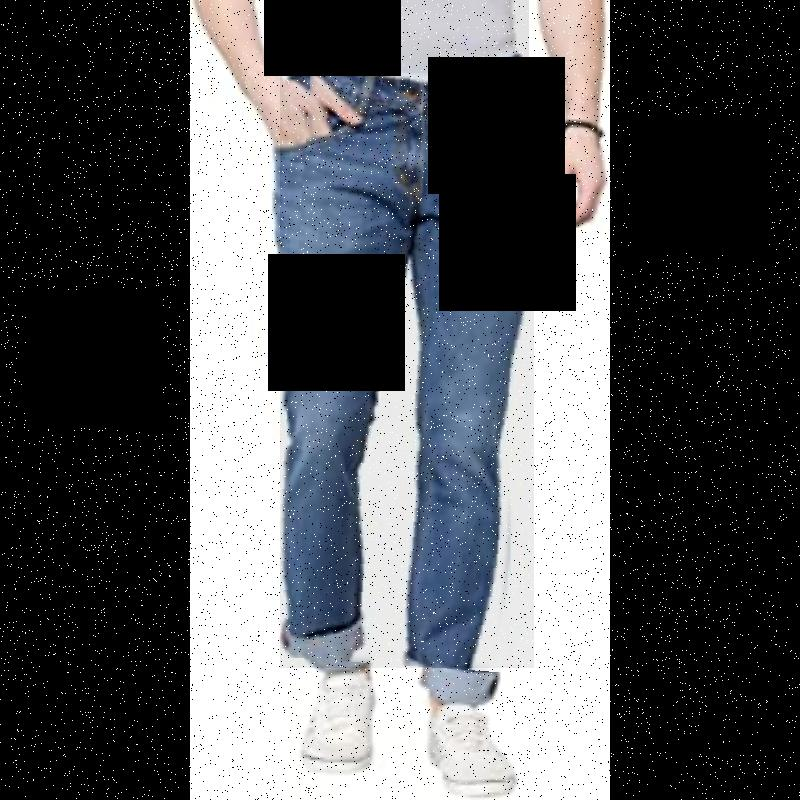Jeans: (280, 60, 534, 668)
Tshirt: (287, 0, 529, 73)
